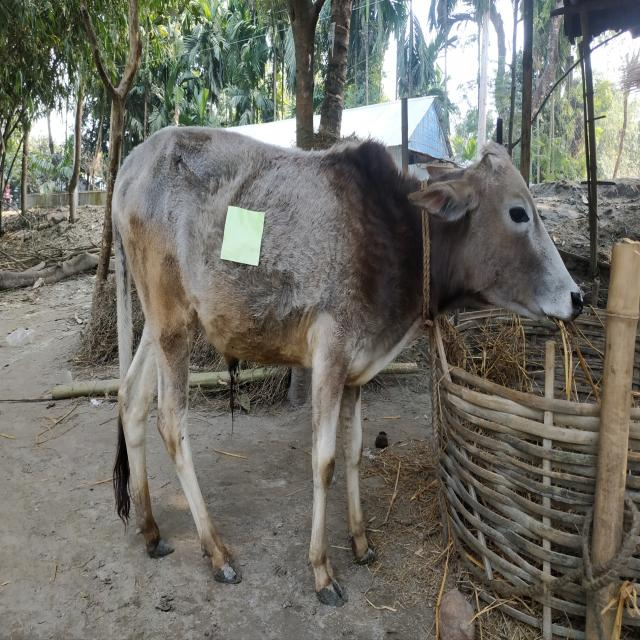badan_sapi: (136, 132, 351, 378)
sapi: (101, 120, 592, 617)
